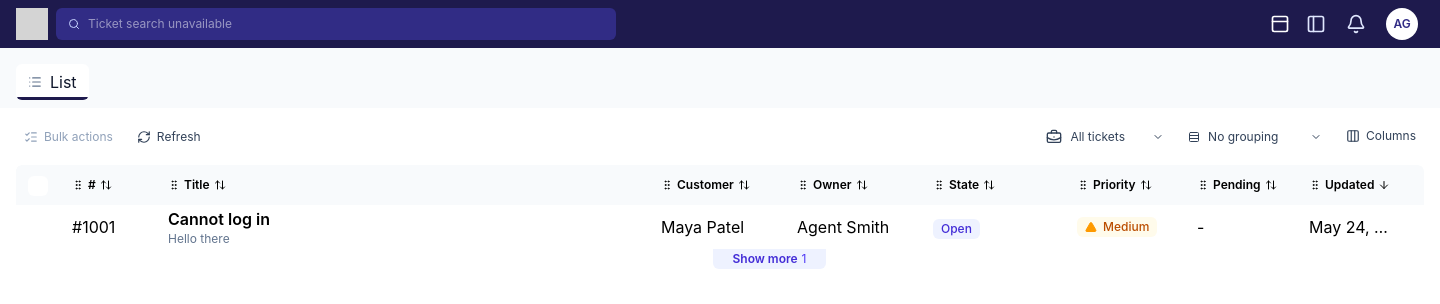
Test case: TicketWorkspace paging and sort › reloads the first page through provider sort and keeps the sort for next pages
Step 1. Click the button "Priority" → [1125, 185], box [1077,177,1173,193]
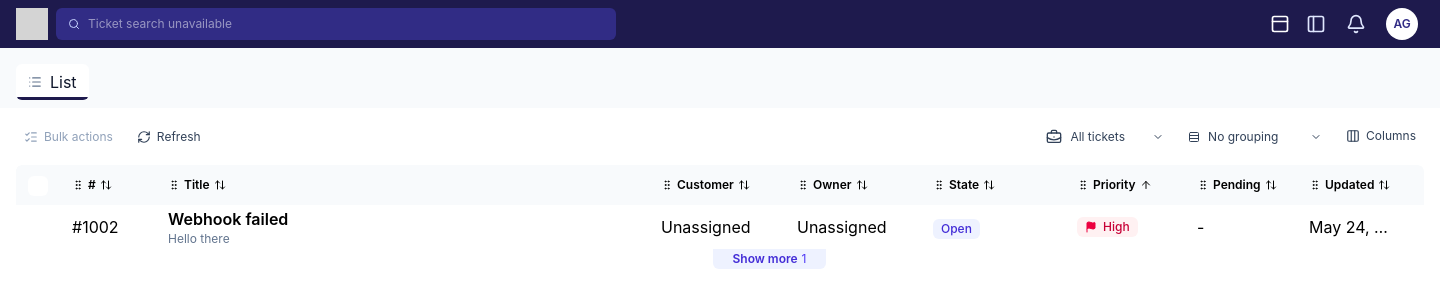
Check: the text "Webhook failed" is shown, box [168,209,288,229]
Check: the button "Cannot log in" is gone
Step 2. Click the button with aria-label "Show more tickets (1)" → [770, 259], box [712,249,826,269]
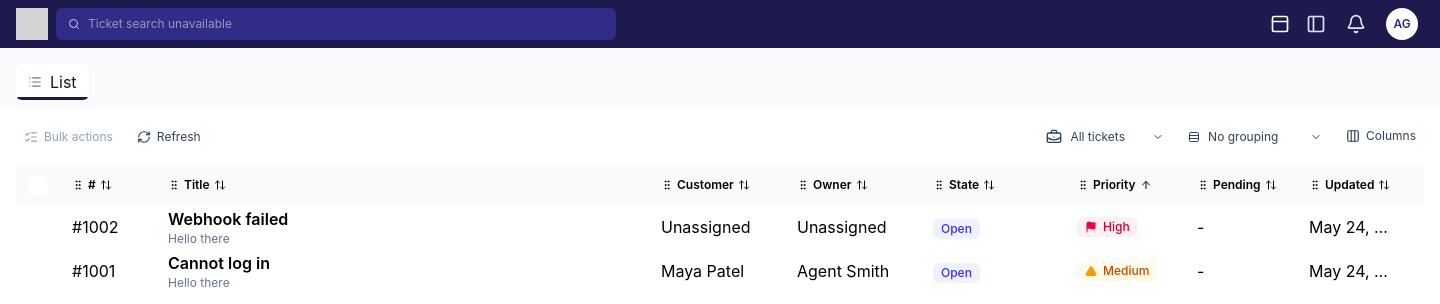
Check: the text "Cannot log in" is shown, box [168,253,270,273]
